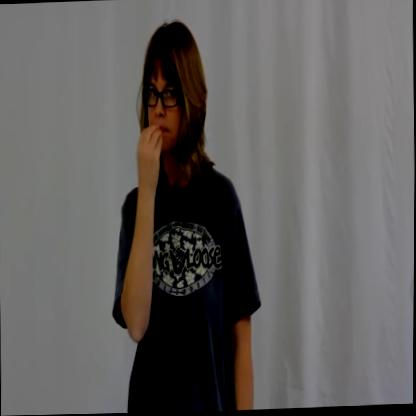Food: (115, 0, 219, 222)
